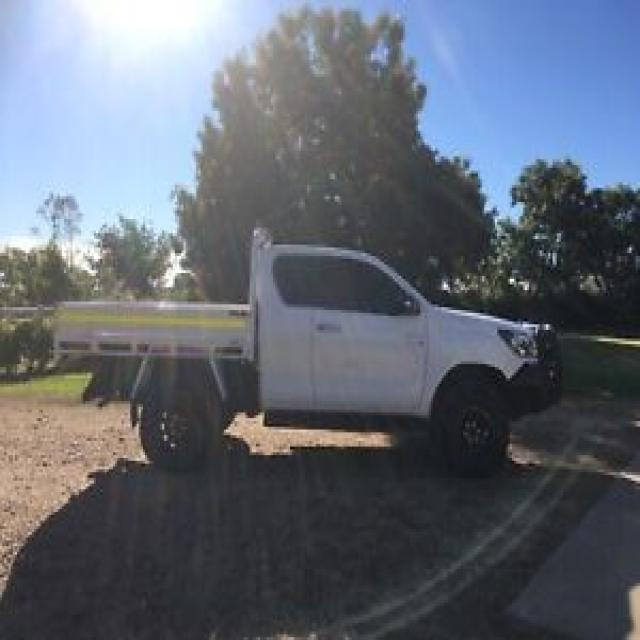light_vehicle: (43, 233, 563, 475)
